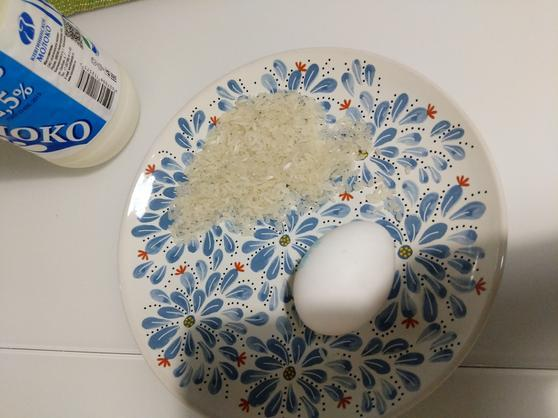egg: (286, 214, 404, 338)
milk: (1, 1, 145, 173)
rice: (159, 86, 360, 222)
